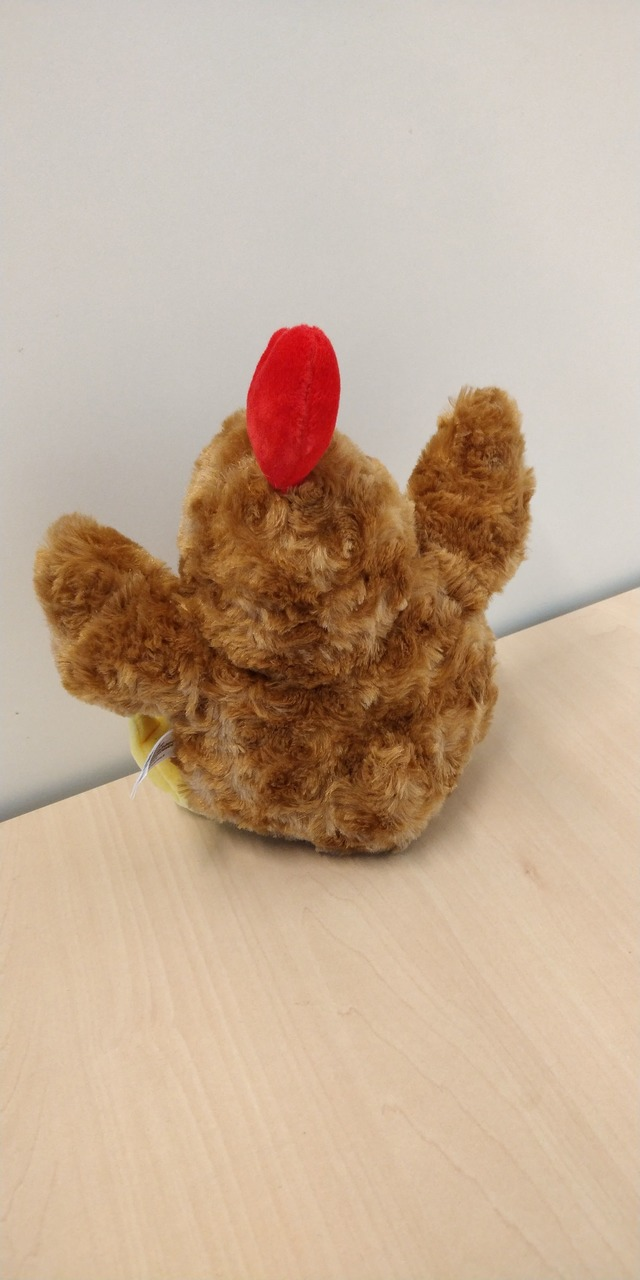fakeChicken: (34, 323, 538, 863)
